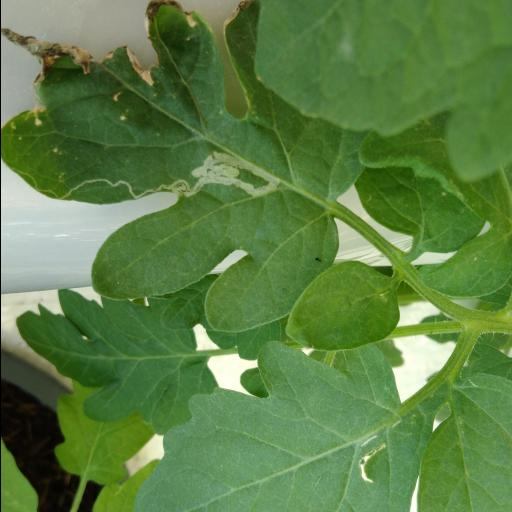disease_tomato: (0, 0, 366, 334)
